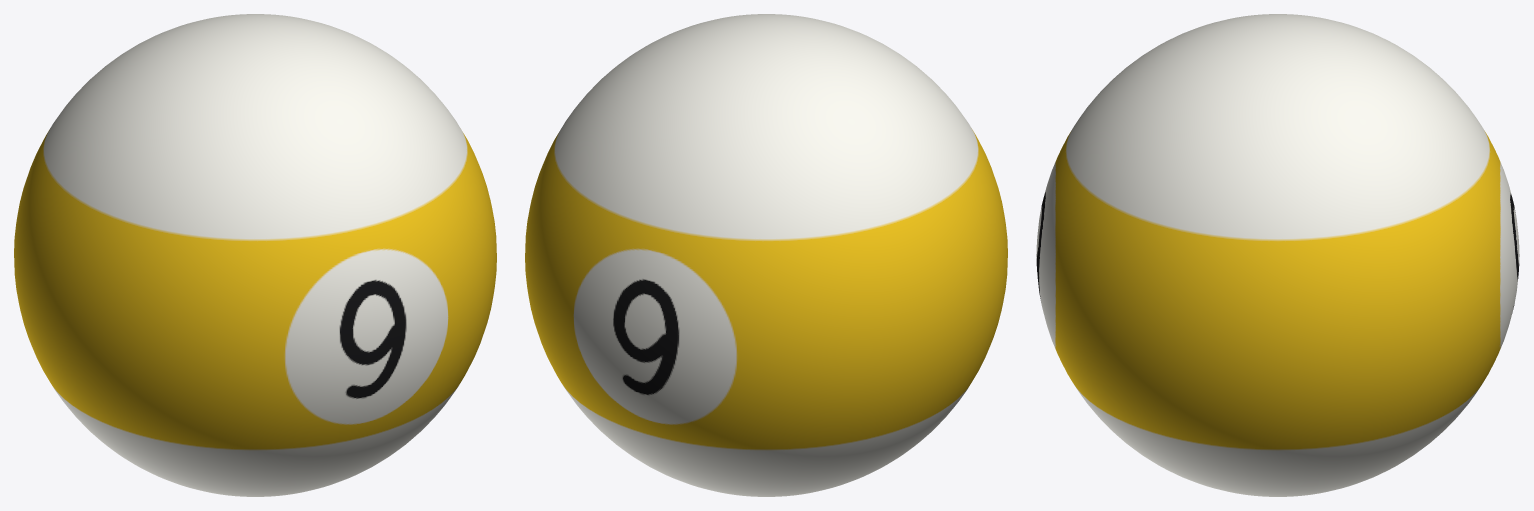
The model's file is ball-09.gltf.
3 renders of one model, left to right at view 1: azimuth 30°, elevation 25°; view 2: azimuth 150°, elevation 25°; view 3: azimuth 270°, elevation 25°, orthographic.
Visible parts, largest first — view 1: Ball_09; view 2: Ball_09; view 3: Ball_09.
Part boxes in pixels (bbox=[...]): Ball_09: bbox=[14, 14, 496, 496]; Ball_09: bbox=[525, 14, 1007, 496]; Ball_09: bbox=[1036, 14, 1519, 496].
Size of the model in its own units: 0.1 by 0.1 by 0.1.
1 material, 1 textured.
